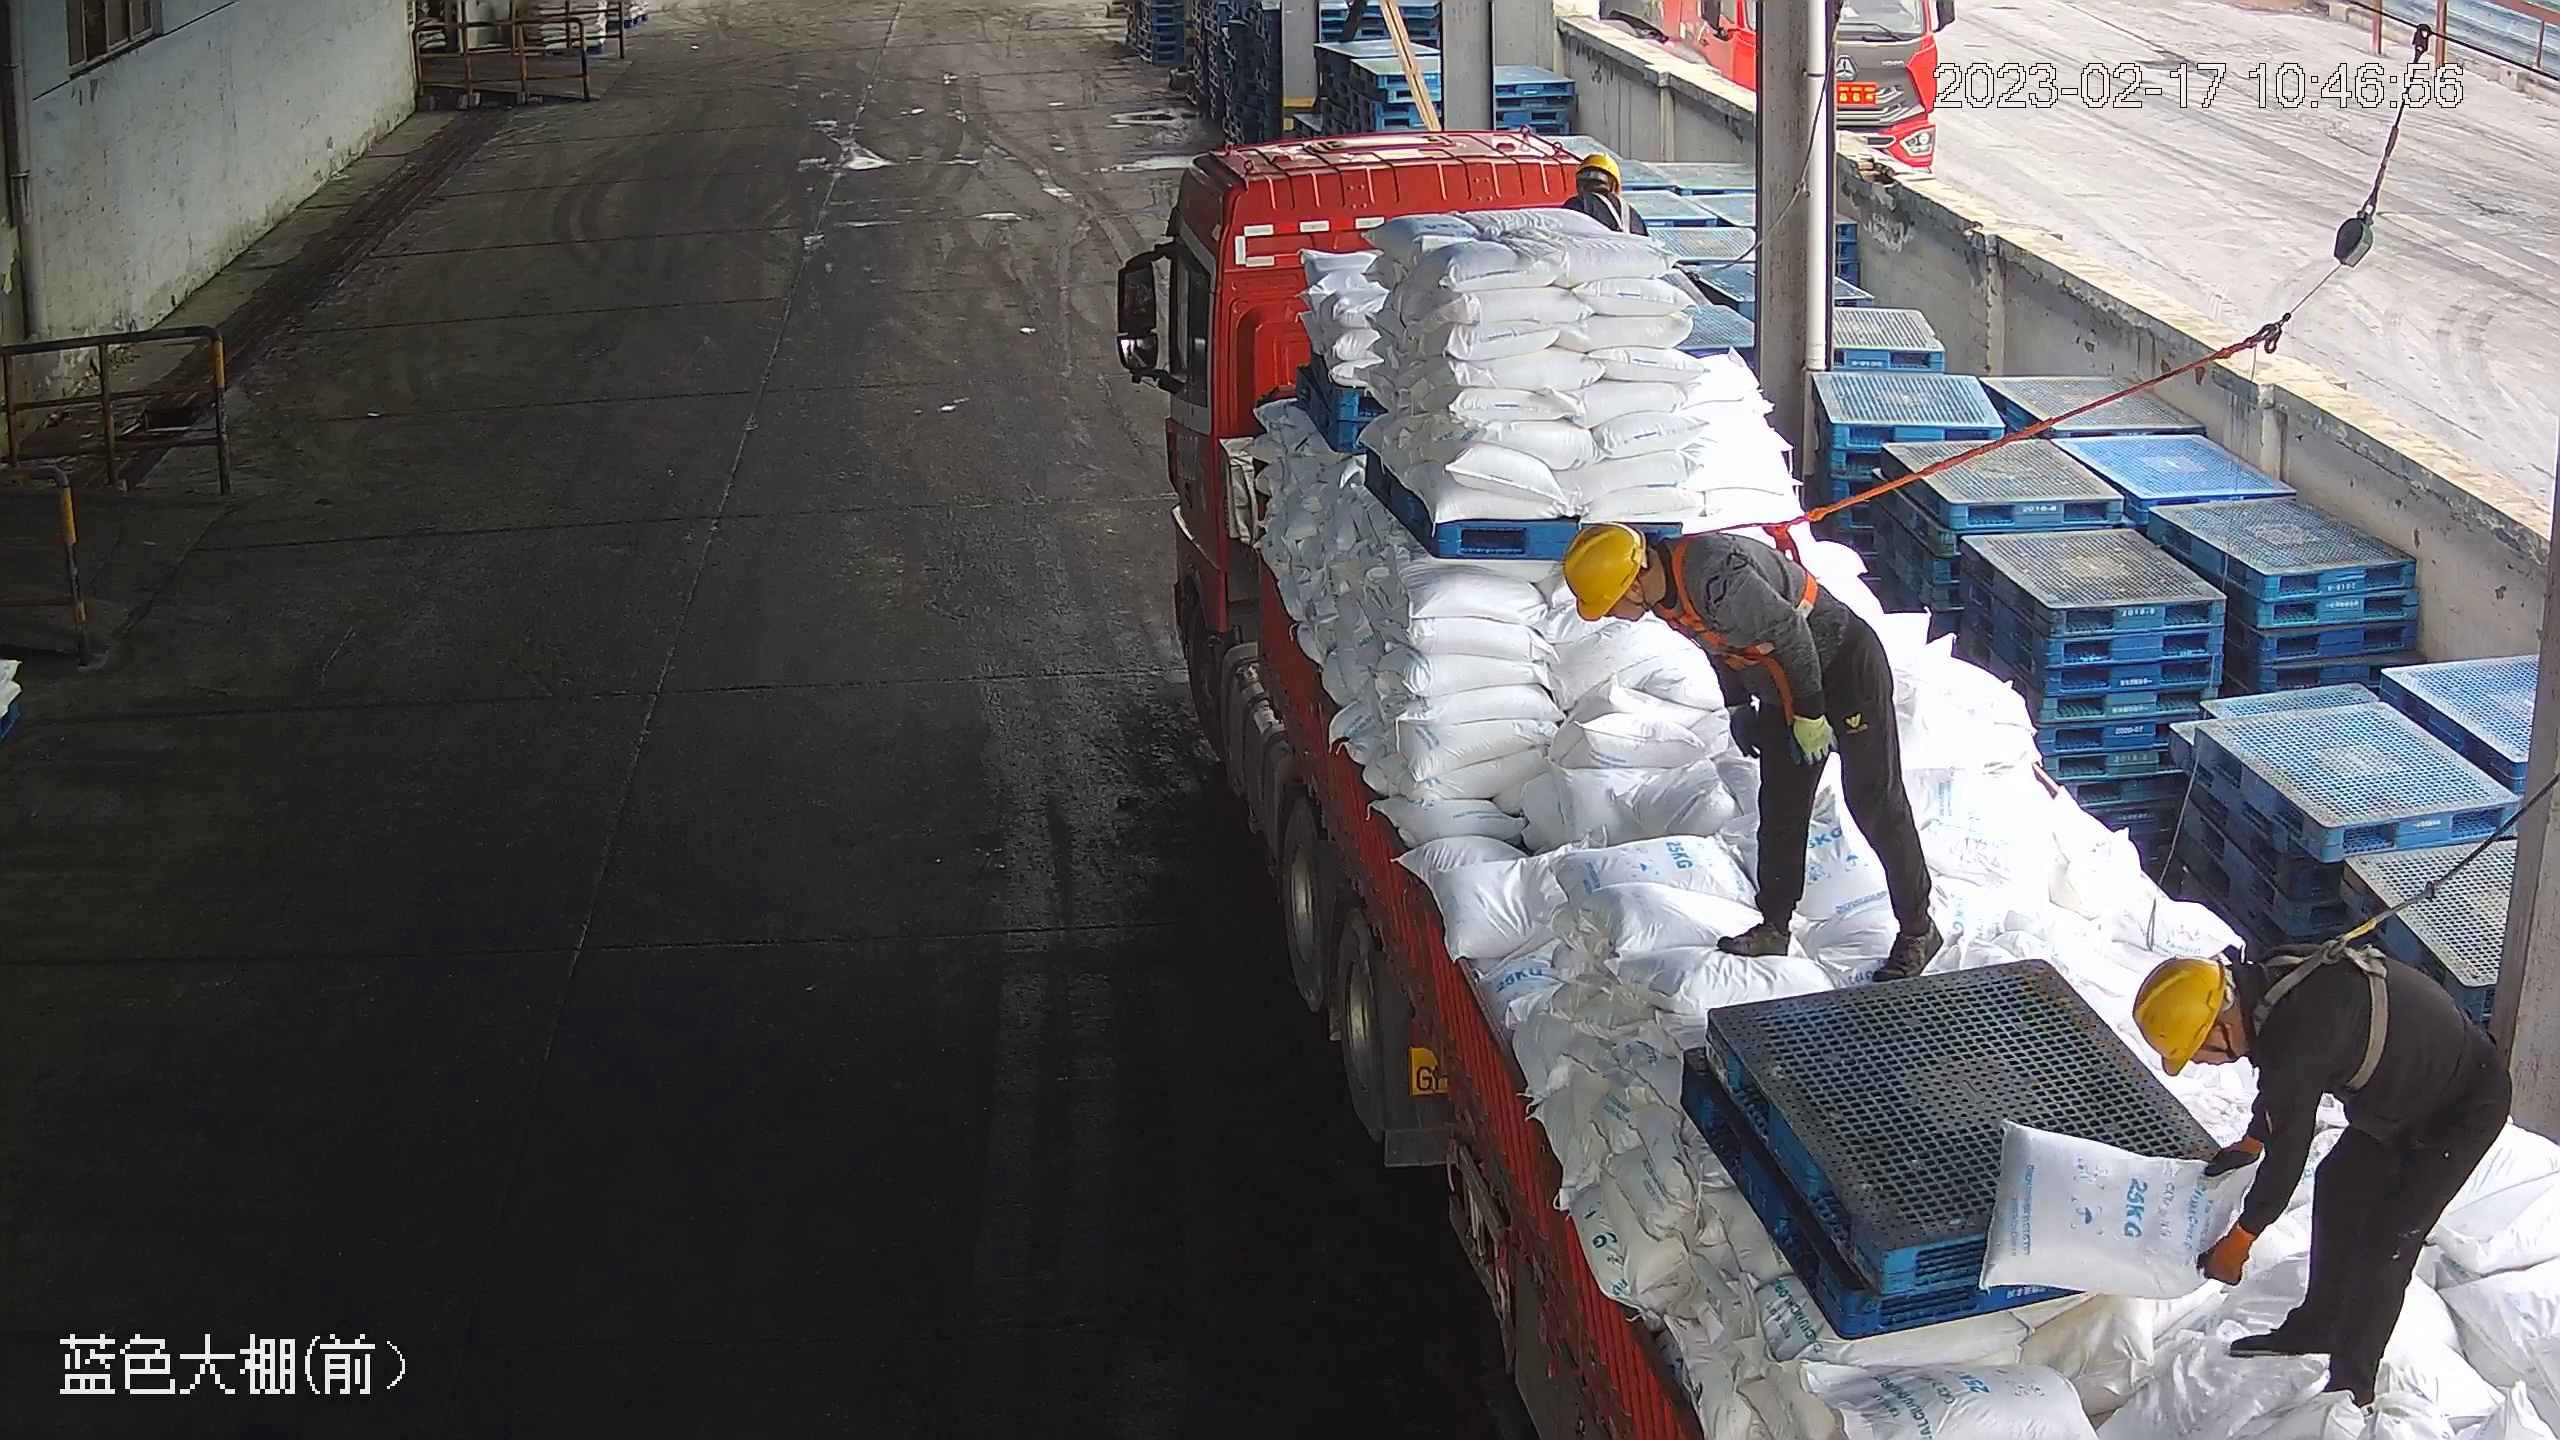belt: (1654, 504, 1850, 676), (2249, 918, 2396, 1094), (1589, 191, 1634, 234)
head: (2124, 943, 2376, 1086), (1562, 520, 1759, 643), (1563, 153, 1648, 233)
helmet: (2132, 952, 2227, 1078), (1561, 521, 1648, 623), (1576, 152, 1622, 194)
people: (2130, 939, 2517, 1414), (1562, 520, 1945, 985)
truck: (1163, 125, 2560, 1440)
